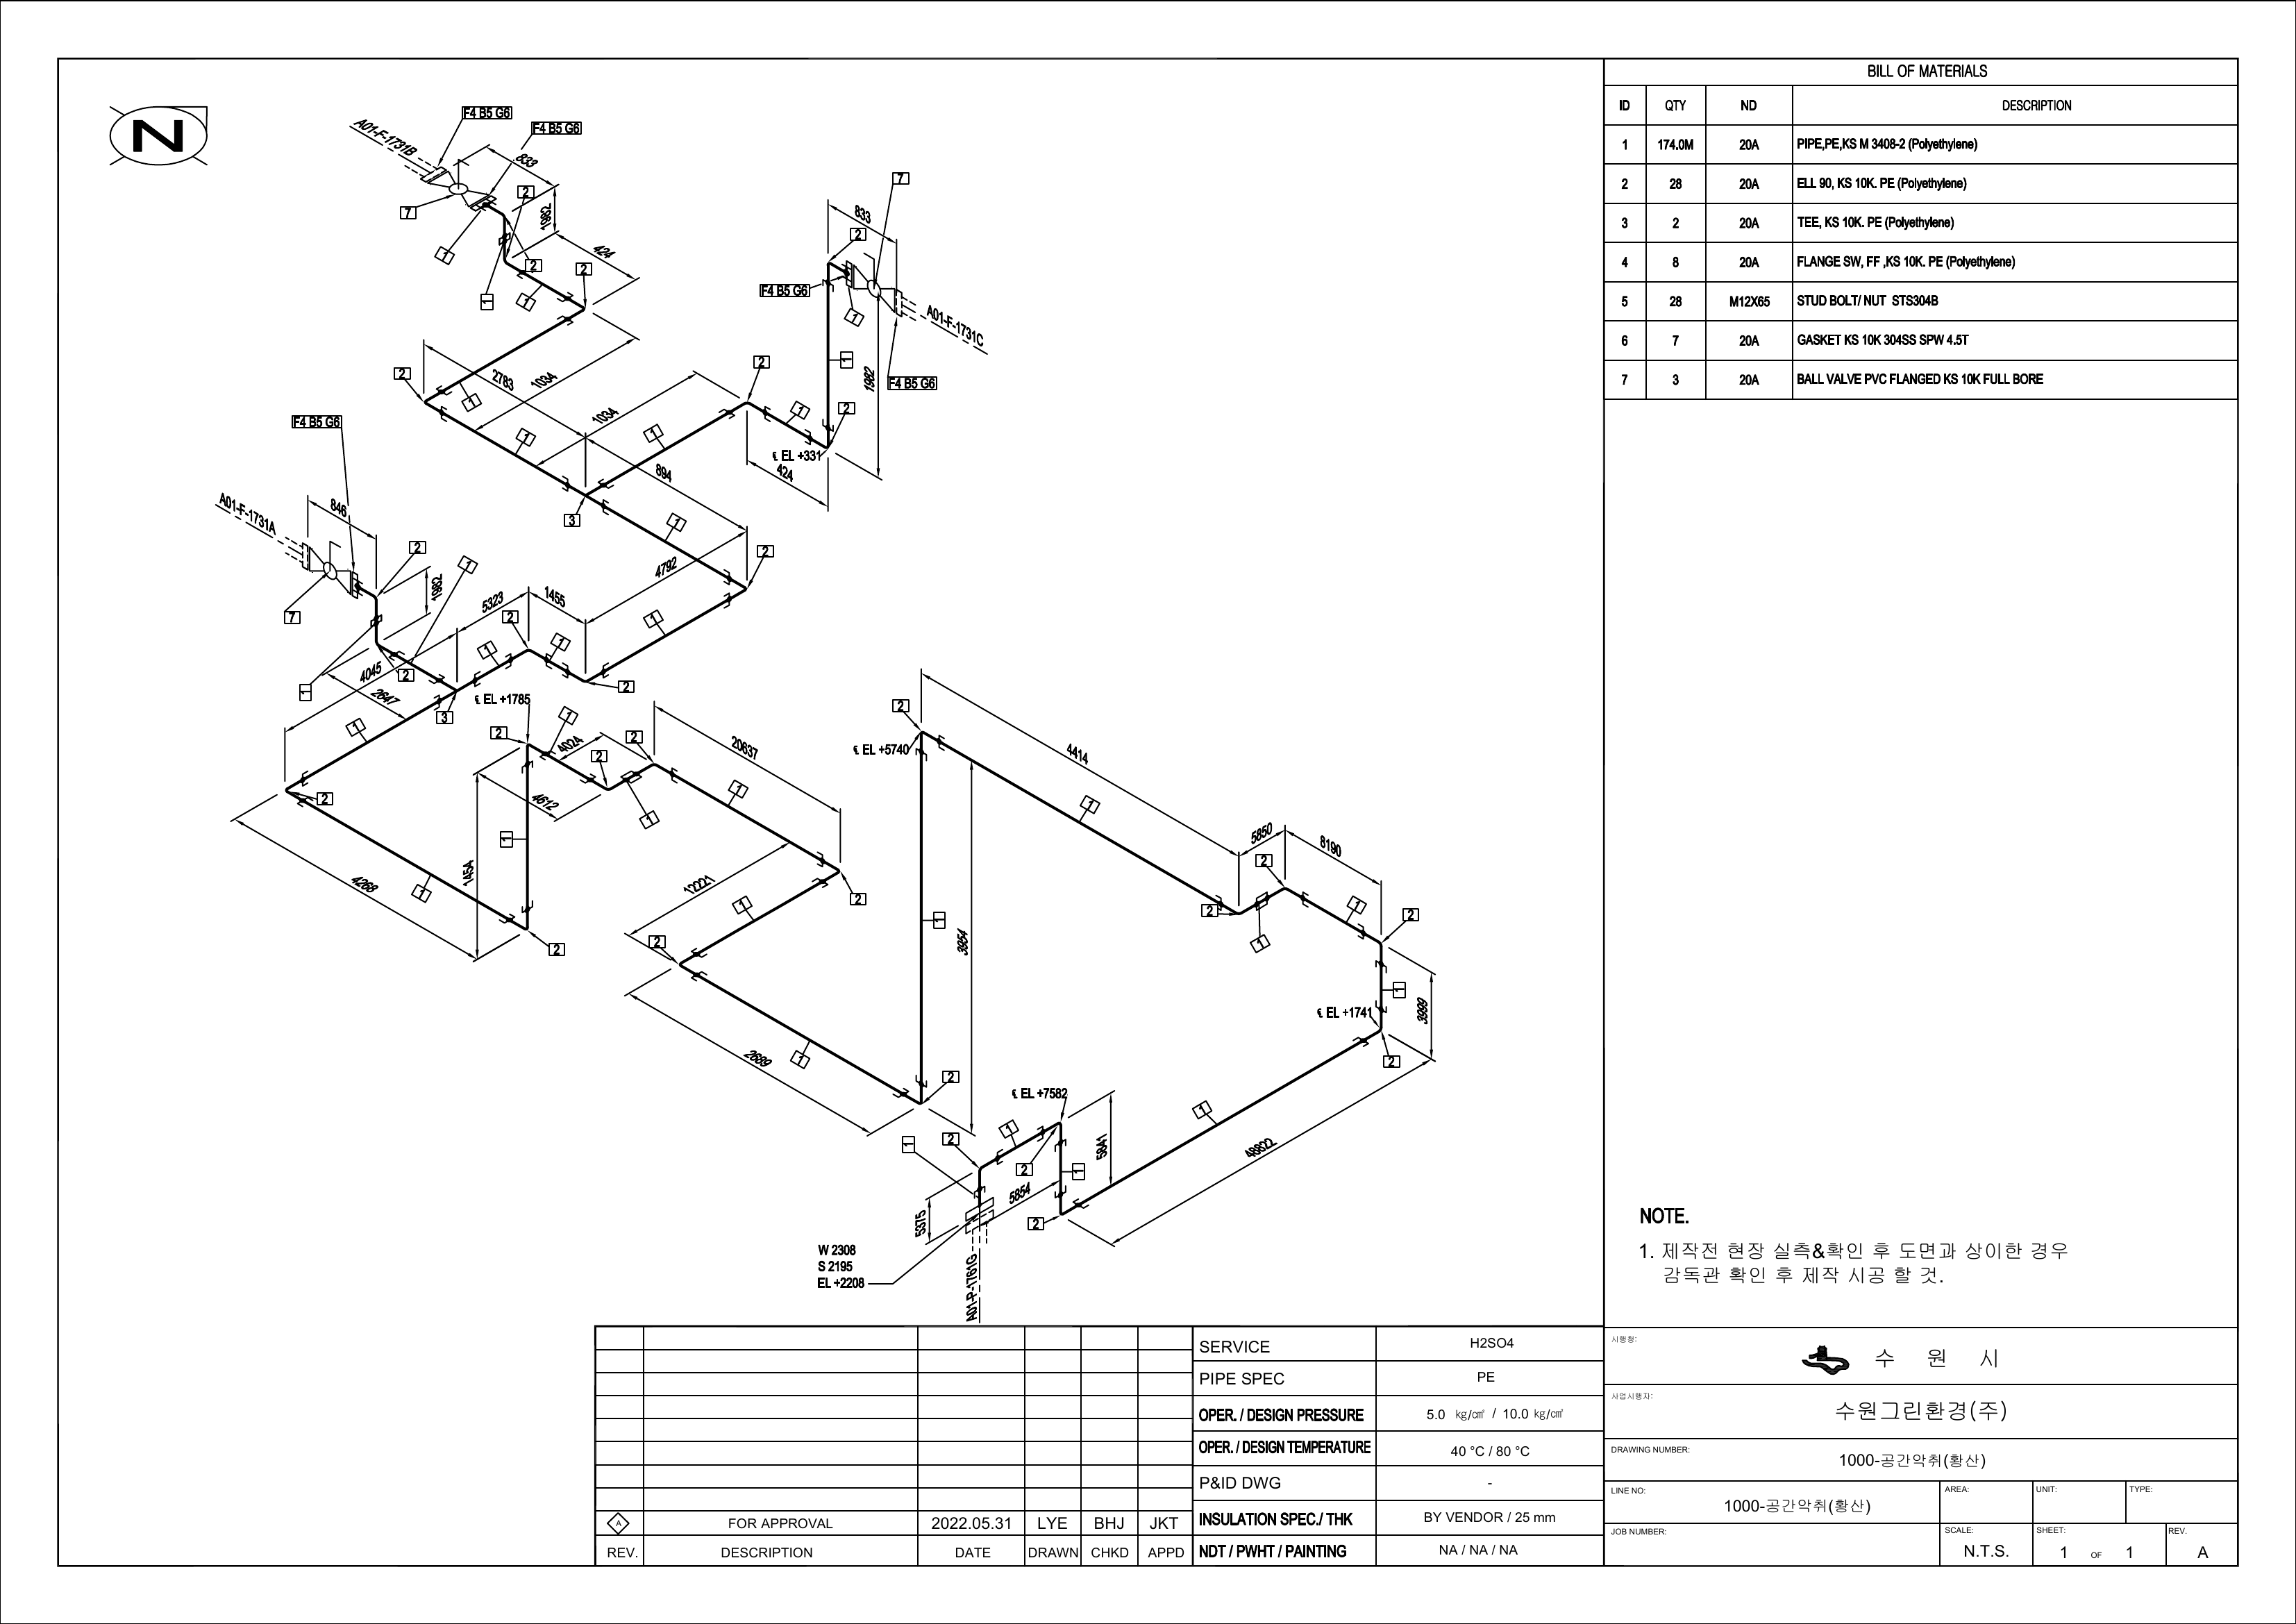table: (1597, 47, 2243, 406)
